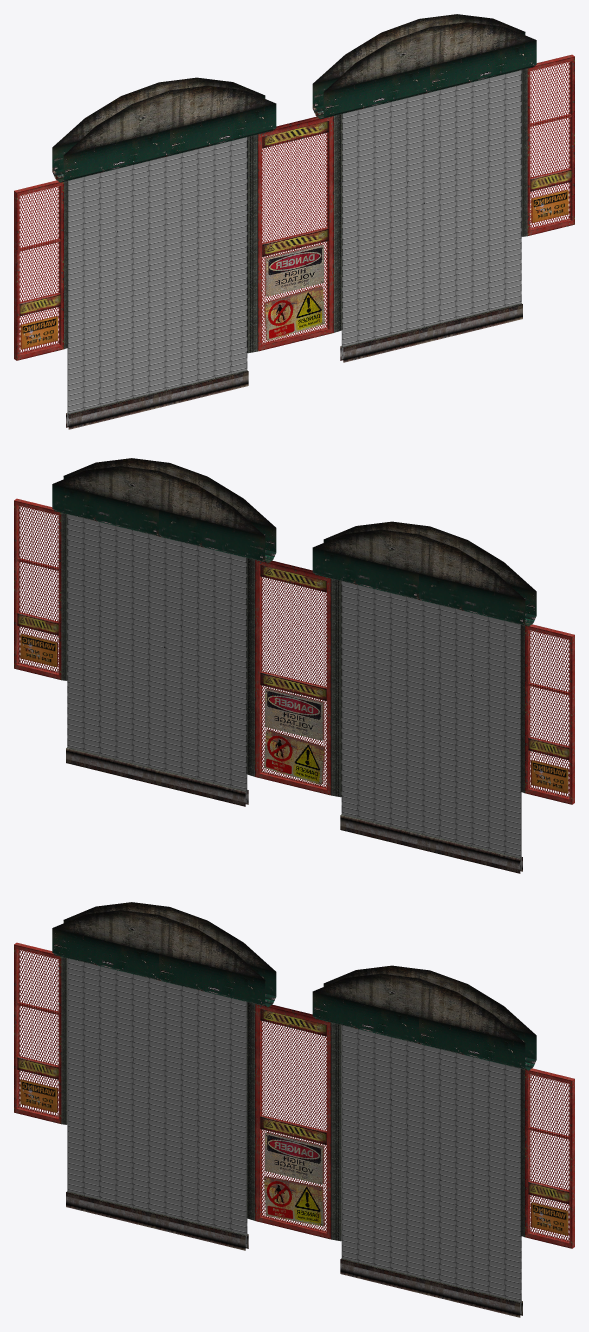
File: subway_gate_roundtunnel.fbx
The picture shows the model from 3 angles, top to bottom: view 1: azimuth 30°, elevation 25°; view 2: azimuth 150°, elevation 25°; view 3: azimuth 330°, elevation 25°; orthographic projection.
Visible parts, largest first — view 1: mesh_12, mesh_14, mesh_4, mesh_23, mesh_21, mesh_7, mesh_22, mesh_20, mesh_17, mesh_1, mesh_0, mesh_15 (+10 smaller); view 2: mesh_12, mesh_14, mesh_4, mesh_23, mesh_21, mesh_7, mesh_22, mesh_20, mesh_17, mesh_1, mesh_0, mesh_15 (+10 smaller); view 3: mesh_14, mesh_12, mesh_4, mesh_21, mesh_23, mesh_7, mesh_20, mesh_22, mesh_1, mesh_17, mesh_15, mesh_0 (+10 smaller).
Part boxes in pixels (bbox=[...]): mesh_12: bbox=[67, 137, 247, 426]; mesh_14: bbox=[341, 70, 521, 359]; mesh_4: bbox=[247, 114, 342, 353]; mesh_23: bbox=[313, 14, 535, 91]; mesh_21: bbox=[53, 77, 275, 155]; mesh_7: bbox=[262, 132, 327, 344]; mesh_22: bbox=[312, 32, 536, 119]; mesh_20: bbox=[52, 95, 276, 182]; mesh_17: bbox=[530, 56, 570, 229]; mesh_1: bbox=[18, 182, 59, 353]; mesh_0: bbox=[14, 180, 68, 360]; mesh_15: bbox=[521, 54, 574, 236]; mesh_12: bbox=[341, 581, 521, 870]; mesh_14: bbox=[67, 514, 247, 803]; mesh_4: bbox=[246, 558, 341, 797]; mesh_23: bbox=[53, 458, 275, 535]; mesh_21: bbox=[313, 521, 535, 599]; mesh_7: bbox=[261, 576, 326, 788]; mesh_22: bbox=[52, 476, 276, 563]; mesh_20: bbox=[312, 539, 536, 626]; mesh_17: bbox=[18, 500, 58, 673]; mesh_1: bbox=[529, 626, 570, 797]; mesh_0: bbox=[520, 624, 574, 804]; mesh_15: bbox=[14, 498, 67, 680]; mesh_14: bbox=[341, 1025, 521, 1314]; mesh_12: bbox=[67, 958, 247, 1247]; mesh_4: bbox=[246, 1002, 341, 1241]; mesh_21: bbox=[53, 902, 275, 979]; mesh_23: bbox=[313, 965, 535, 1043]; mesh_7: bbox=[261, 1020, 326, 1232]; mesh_20: bbox=[52, 920, 276, 1007]; mesh_22: bbox=[312, 983, 536, 1070]; mesh_1: bbox=[18, 944, 58, 1117]; mesh_17: bbox=[529, 1070, 570, 1241]; mesh_15: bbox=[520, 1068, 574, 1248]; mesh_0: bbox=[14, 942, 67, 1124].
Size of the model in its own units: 1180 by 644 by 41.32.
4 materials, 4 textured.
